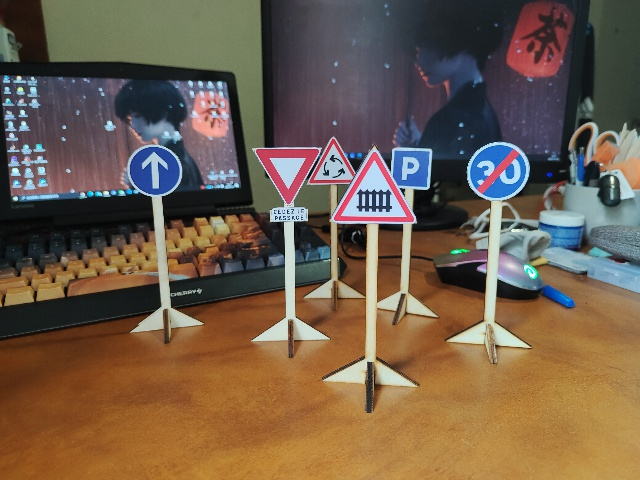P: (389, 143, 432, 189)
ban: (467, 140, 532, 200)
cycle: (308, 137, 357, 184)
second: (255, 146, 320, 221)
straight: (126, 143, 182, 196)
train: (332, 151, 416, 224)
